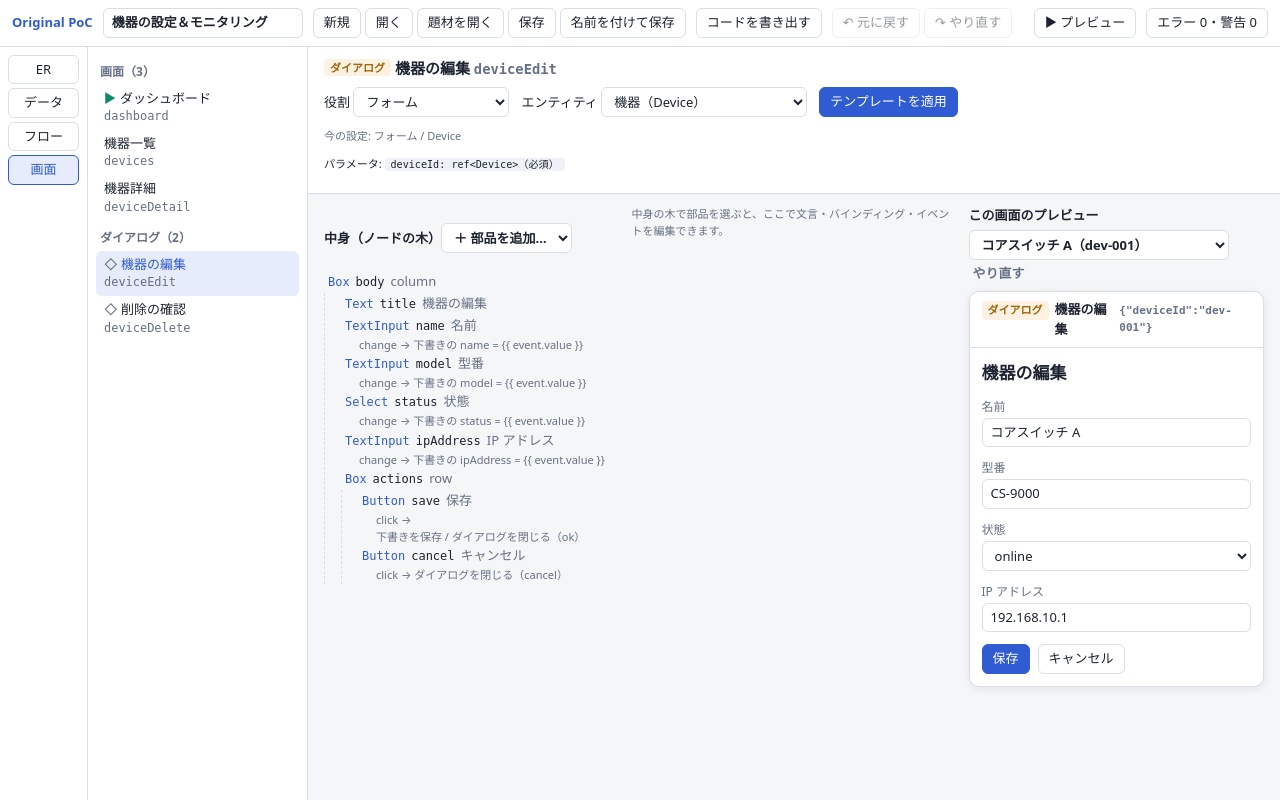
Scenario: 画面ビュー › 中身の木と、見本のレコードでその画面だけのプレビューを出す
Expected: the dropdown labelled "役割" shows "フォーム", 353,87 -> 509,117
Expected: the text "save" is shown, 411,492 -> 440,510
Select "無線 AP 2F（dev-004）" in the dropdown named "見本のレコード" at (1098, 245), box 968,230 -> 1228,260
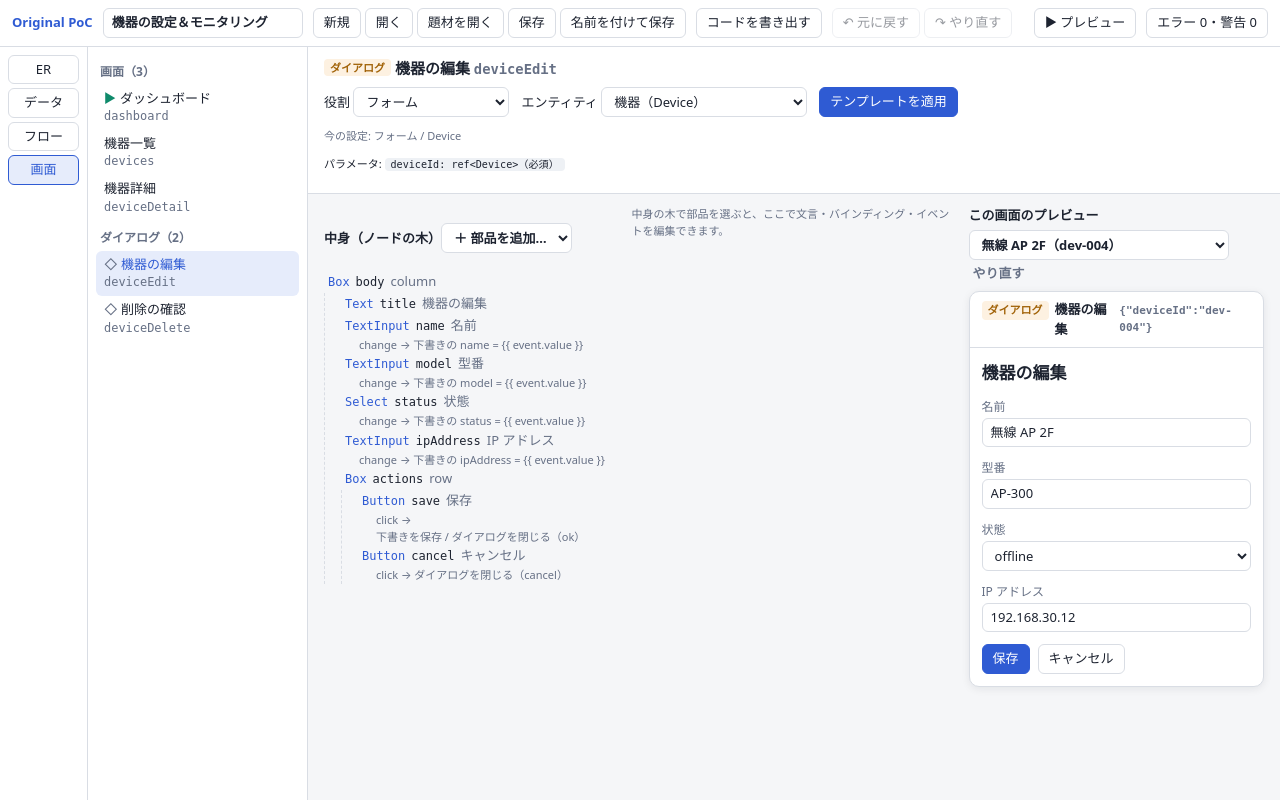
Now the field labelled "名前" holds "無線 AP 2F", box 982,418 -> 1251,447
